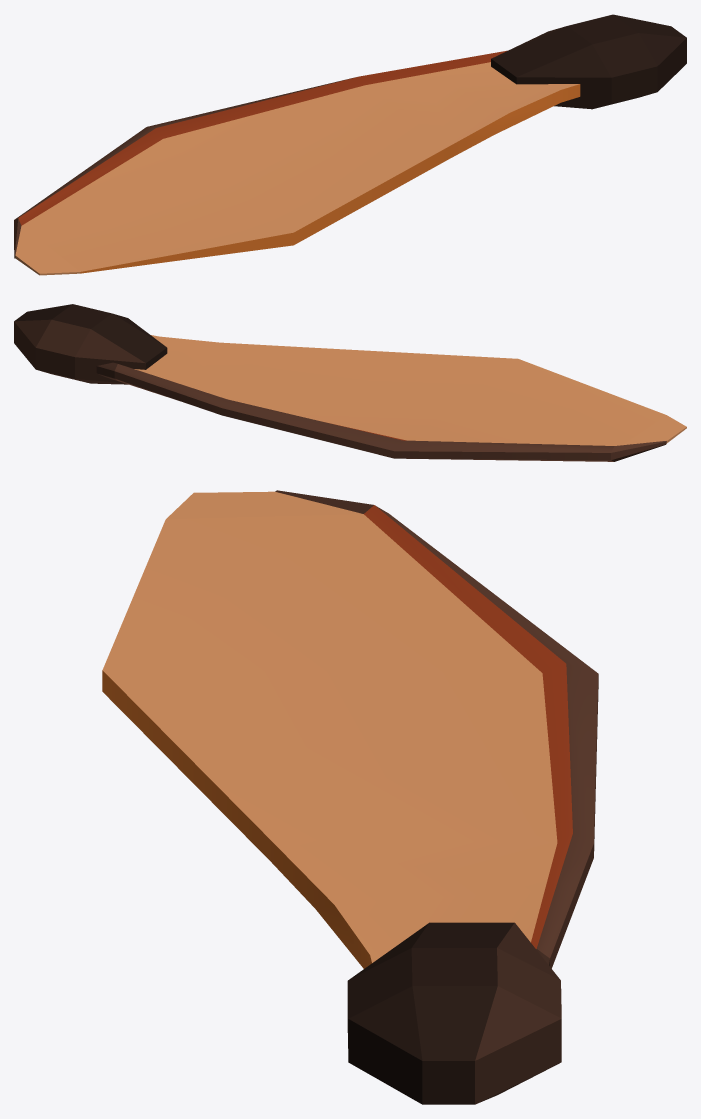
Rendered from LeftCopter.fbx.
3 renders of one model, top to bottom at view 1: azimuth 30°, elevation 25°; view 2: azimuth 150°, elevation 25°; view 3: azimuth 270°, elevation 25°, orthographic. The views are drawn at different scales.
Visible parts, largest first — view 1: RightCopter; view 2: RightCopter; view 3: RightCopter.
Boxes of the visible parts, x1=… form: RightCopter: x1=14, y1=14, x2=686, y2=275; RightCopter: x1=14, y1=304, x2=686, y2=461; RightCopter: x1=102, y1=490, x2=598, y2=1104.
Bounding box in the file's own units: 5.12 × 0.4432 × 1.83.
